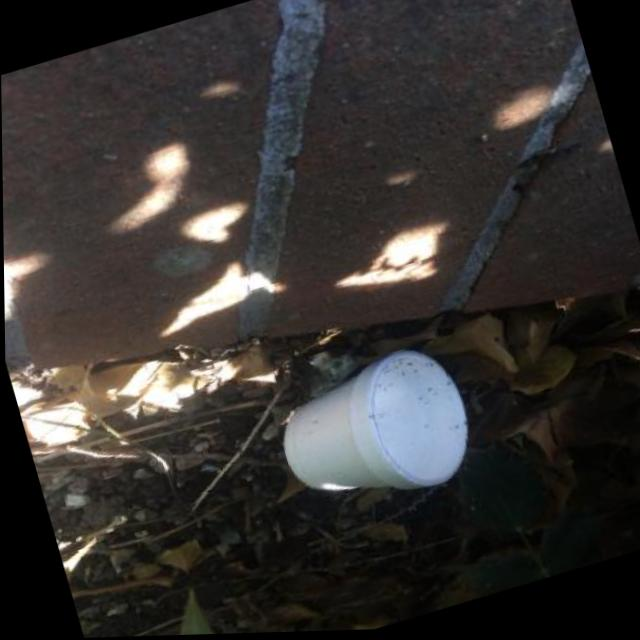foam: (265, 337, 483, 525)
